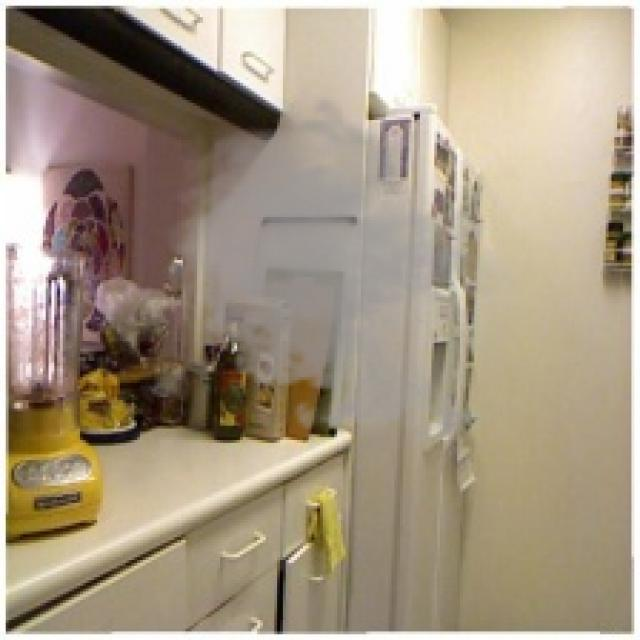Smoke: (155, 94, 540, 452)
